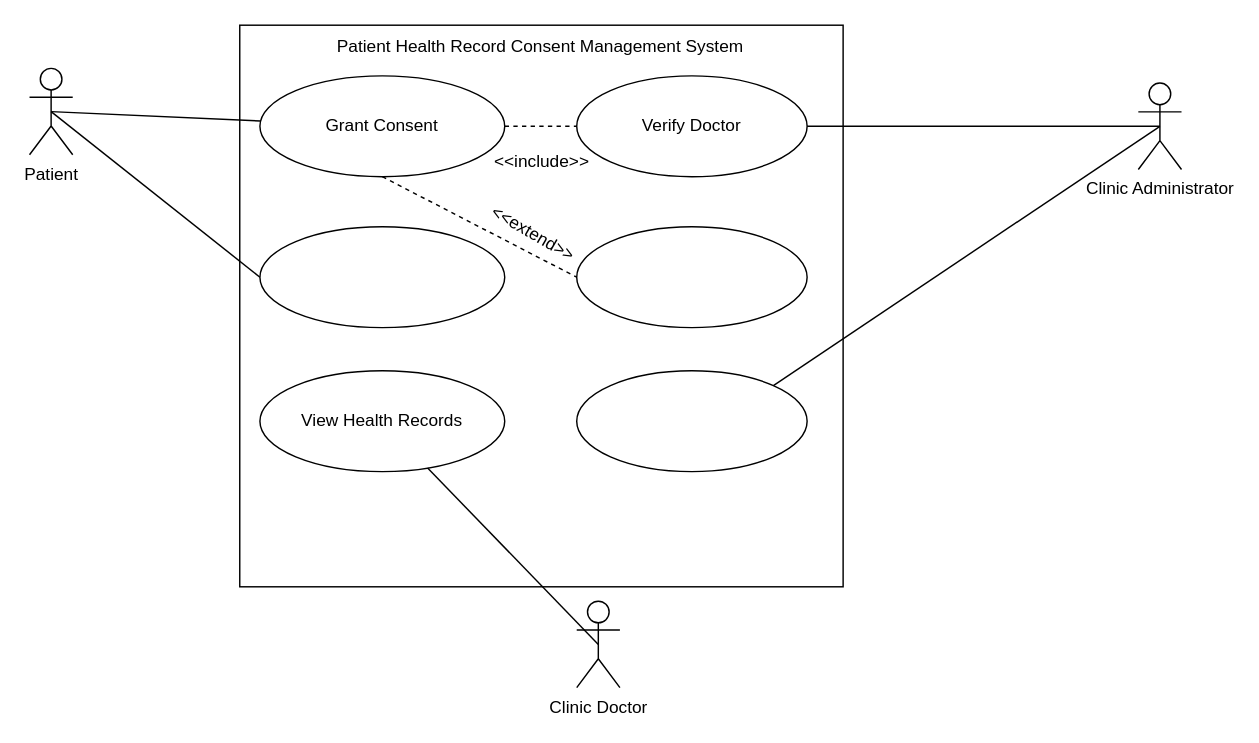
Some shapes in this 1259 by 743 pixel diagram are drawn without their labels. The box of each missing label's shape, as (x1, y1, x2, y2) in pixels:
Automatic Revoke on Expiry: (575, 225, 807, 328)
Revoke consent: (258, 225, 505, 328)
View Audit Trail: (575, 369, 807, 472)
